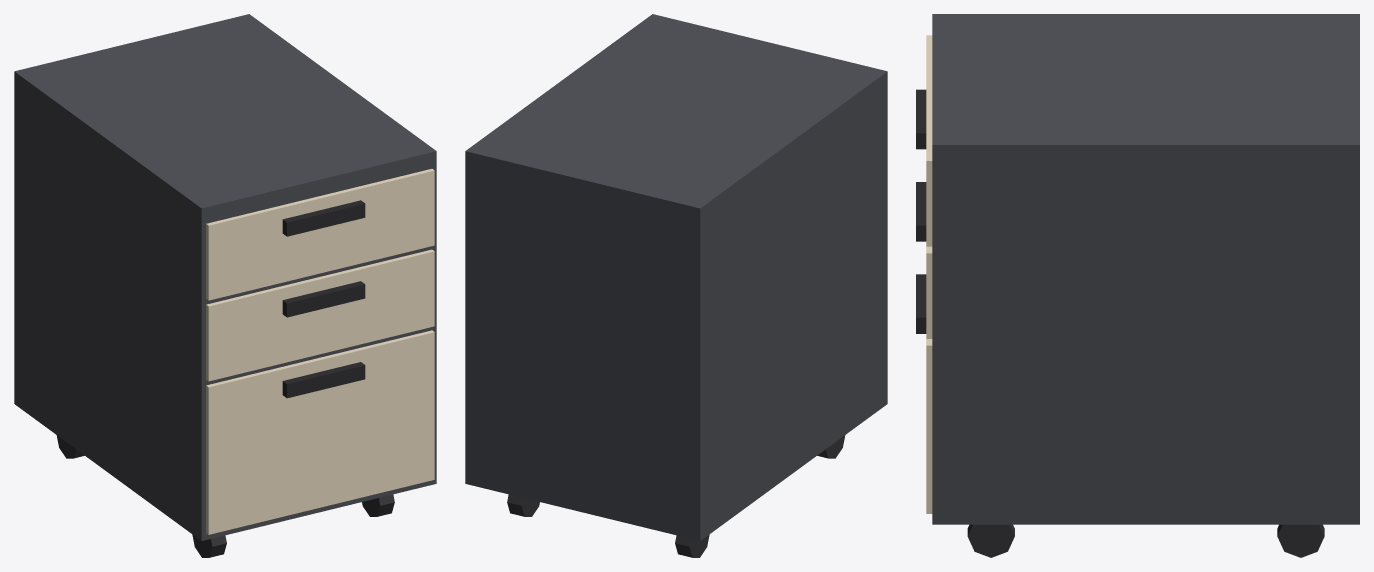
Rendered from FN_Pedestal_Filing.glb.
3 views of the same model, side by side, from view 1: azimuth 30°, elevation 25°; view 2: azimuth 150°, elevation 25°; view 3: azimuth 270°, elevation 25° (orthographic). The views are drawn at different scales.
Parts seen in each view (by area): view 1: FN_Pedestal_Filing; view 2: FN_Pedestal_Filing; view 3: FN_Pedestal_Filing.
Boxes of the visible parts, bbox=[...] form: FN_Pedestal_Filing: bbox=[14, 14, 436, 557]; FN_Pedestal_Filing: bbox=[465, 14, 887, 557]; FN_Pedestal_Filing: bbox=[916, 14, 1359, 557].
Size of the model in its own units: 0.42 by 0.64 by 0.602.
Materials: 1 (1 with a texture image).
